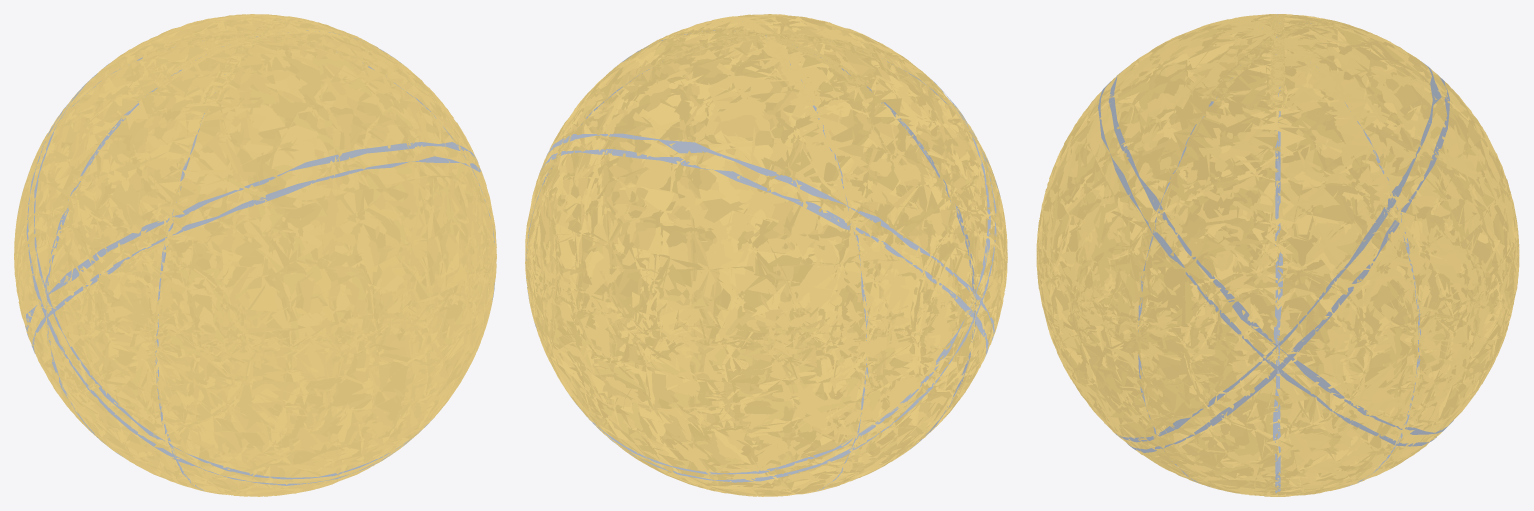
3 views of the same model, side by side, from view 1: azimuth 30°, elevation 25°; view 2: azimuth 150°, elevation 25°; view 3: azimuth 270°, elevation 25° (orthographic).
Parts seen in each view (by area): view 1: anodes, structure; view 2: anodes, structure; view 3: anodes, structure.
Part boxes in pixels (x1,y1,x2,y2): anodes: (14, 14, 496, 496); structure: (18, 30, 494, 490); anodes: (525, 14, 1007, 496); structure: (526, 30, 1000, 490); anodes: (1036, 14, 1519, 496); structure: (1098, 14, 1453, 496).
Bounding box in the file's own units: 2 × 2 × 2.
